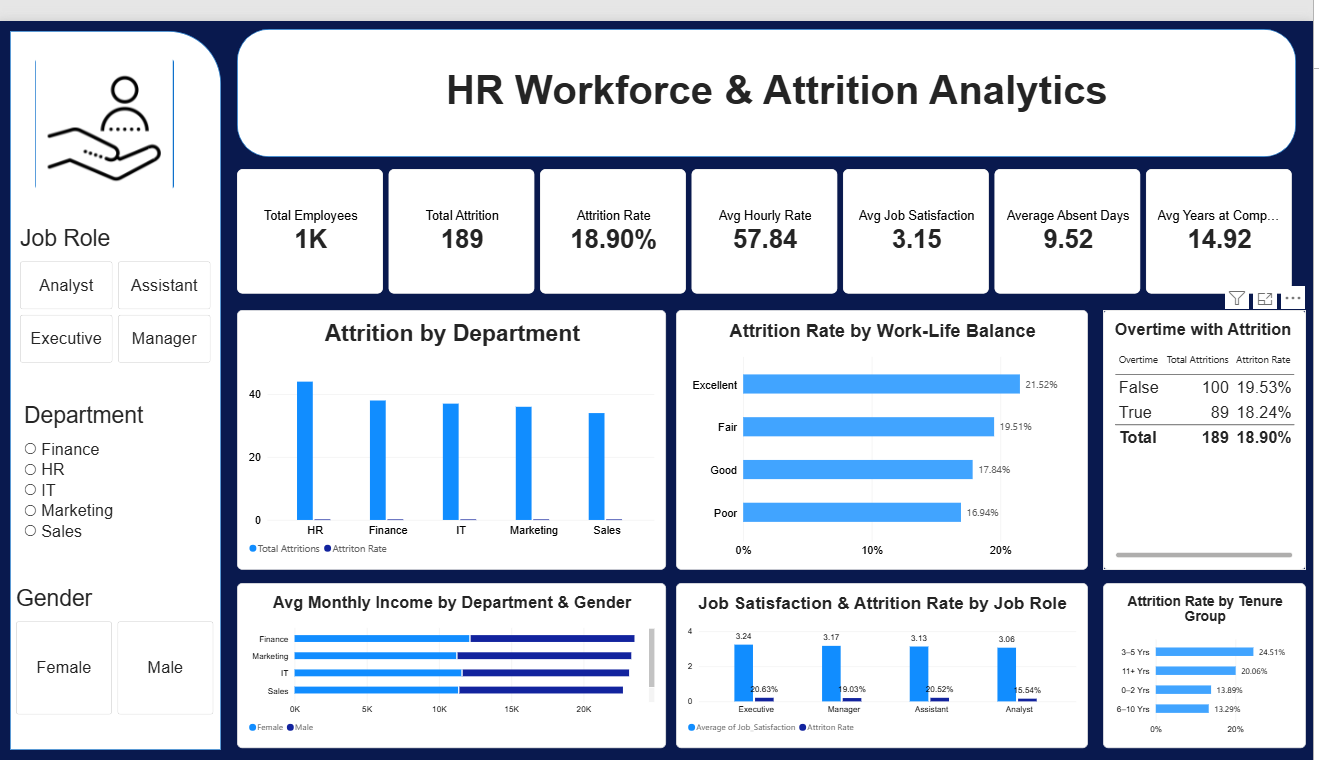

What the dashboard file says about the page in this screenshot:
{"tool":"powerbi","page":{"name":"Page 1","canvas":[1920,1080],"ordinal":0},"visuals":[{"type":"shape","box":[19,14.6,307.8,1049],"z":0},{"type":"shape","box":[350.2,11.7,1545,186.7],"z":1000},{"type":"textbox","box":[415.7,67.6,1444,102.8],"z":2000},{"type":"advancedSlicerVisual","title":"Job Role","fields":{"Values":["Hr_Dataset.Job_Role"]},"box":[33.6,297.6,278.7,201.3],"z":3000},{"type":"listSlicer","fields":{"Values":["Hr_Dataset.Department"]},"box":[39.4,555.9,268.4,245.1],"z":4000},{"type":"advancedSlicerVisual","fields":{"Values":["Hr_Dataset.Gender"]},"box":[27.7,822.9,288.9,189.7],"z":5000},{"type":"cardVisual","fields":{"Data":["Dax Measures.Total Employees","Dax Measures.Attrition Rates","Dax Measures.Attriton Rate","Avg(Hr_Dataset.Hourly_Rate)","Avg(Hr_Dataset.Job_Satisfaction)","Avg(Hr_Dataset.Absent_days)","Avg(Hr_Dataset.Years_at_Company)"]},"box":[350.2,215.9,1545,182.4],"z":6000},{"type":"barChart","title":"Avg Monthly Income by Department & Gender","fields":{"Category":["Hr_Dataset.Department"],"Series":["Hr_Dataset.Gender"],"Y":["Avg(Hr_Dataset.Monthly_Income)"]},"box":[350.2,819.9,625.9,240.7],"z":7000},{"type":"actionButton","box":[55.4,55.4,202.8,189.7],"z":8000},{"type":"clusteredColumnChart","title":"Attrition by Department","fields":{"Category":["Hr_Dataset.Department"],"Y":["Dax Measures.Total Attritions","Dax Measures.Attriton Rate"]},"box":[350.2,421.6,625.9,379.3],"z":9000},{"type":"tableEx","title":"Overtime with Attrition","fields":{"Values":["Hr_Dataset.Overtime","Dax Measures.Total Attritions","Dax Measures.Attriton Rate"]},"box":[1613.6,421.6,296.2,379.3],"z":10000},{"type":"clusteredColumnChart","title":"Job Satisfaction & Attrition Rate by Job Role ","fields":{"Y":["Avg(Hr_Dataset.Job_Satisfaction)","Dax Measures.Attriton Rate"],"Category":["Hr_Dataset.Job_Role"]},"box":[990.6,819.9,601.1,240.7],"z":11000},{"type":"barChart","title":"Attrition Rate by Work-Life Balance","fields":{"Category":["Hr_Dataset.Work_Life_Balance_Group"],"Y":["Dax Measures.Attriton Rate"]},"box":[990.6,421.6,601.1,379.3],"z":11001},{"type":"barChart","title":"Attrition Rate by Tenure Group","fields":{"Category":["Hr_Dataset.Tenure Group"],"Y":["Dax Measures.Attriton Rate"]},"box":[1614,820,296,241],"z":11002}]}

Visuals, with their boxes in screenshot pixels (x1, y1, x2, y2), scaled from the page's 1920x1080 canvas onto the 1319x760 screenshot:
shape: x1=13, y1=10, x2=225, y2=748
shape: x1=241, y1=8, x2=1302, y2=140
textbox: x1=286, y1=48, x2=1278, y2=120
"Job Role" advancedSlicerVisual: x1=23, y1=209, x2=215, y2=351
listSlicer - Hr_Dataset.Department: x1=27, y1=391, x2=211, y2=564
advancedSlicerVisual - Hr_Dataset.Gender: x1=19, y1=579, x2=217, y2=713
cardVisual - Dax Measures.Total Employees x Dax Measures.Attrition Rates: x1=241, y1=152, x2=1302, y2=280
"Avg Monthly Income by Department & Gender" barChart: x1=241, y1=577, x2=671, y2=746
actionButton: x1=38, y1=39, x2=177, y2=172
"Attrition by Department" clusteredColumnChart: x1=241, y1=297, x2=671, y2=564
"Overtime with Attrition" tableEx: x1=1109, y1=297, x2=1312, y2=564
"Job Satisfaction & Attrition Rate by Job Role " clusteredColumnChart: x1=681, y1=577, x2=1093, y2=746
"Attrition Rate by Work-Life Balance" barChart: x1=681, y1=297, x2=1093, y2=564
"Attrition Rate by Tenure Group" barChart: x1=1109, y1=577, x2=1312, y2=747
